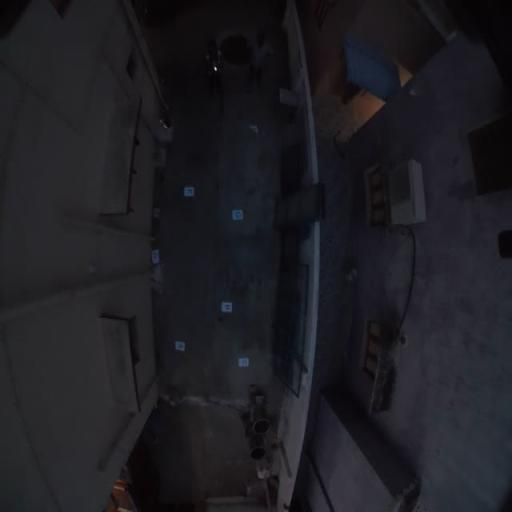A: (174, 340, 186, 351)
B: (221, 301, 232, 312)
C: (151, 250, 160, 264), (238, 357, 248, 368)
D: (232, 209, 242, 221)
E: (184, 186, 194, 197)
